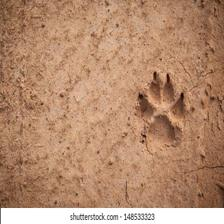coyote: (132, 68, 192, 149)
